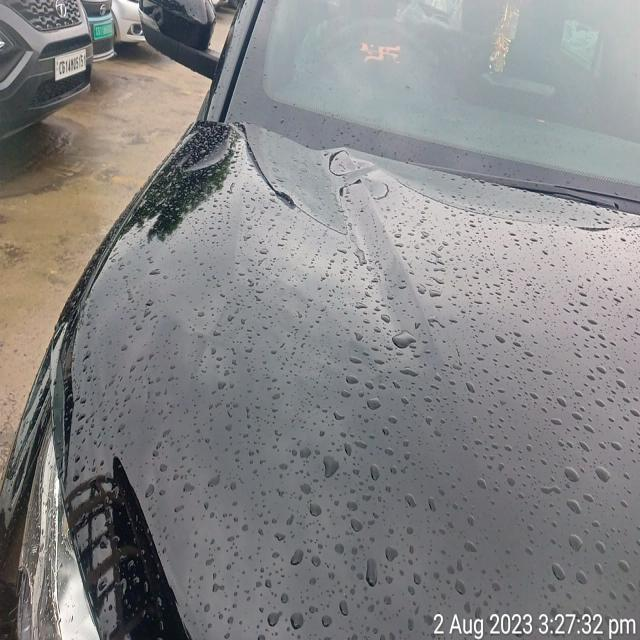damage: (227, 116, 358, 234)
